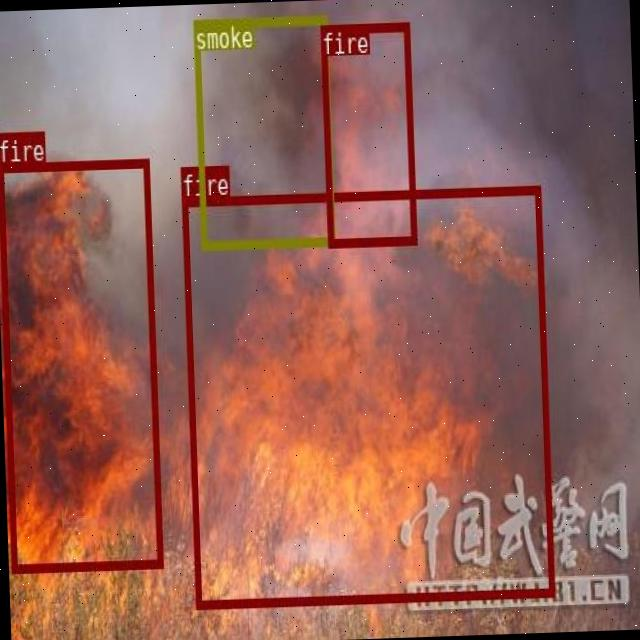fire: (181, 183, 554, 608), (0, 157, 161, 572), (318, 22, 416, 246)
smoke: (192, 15, 332, 247)
